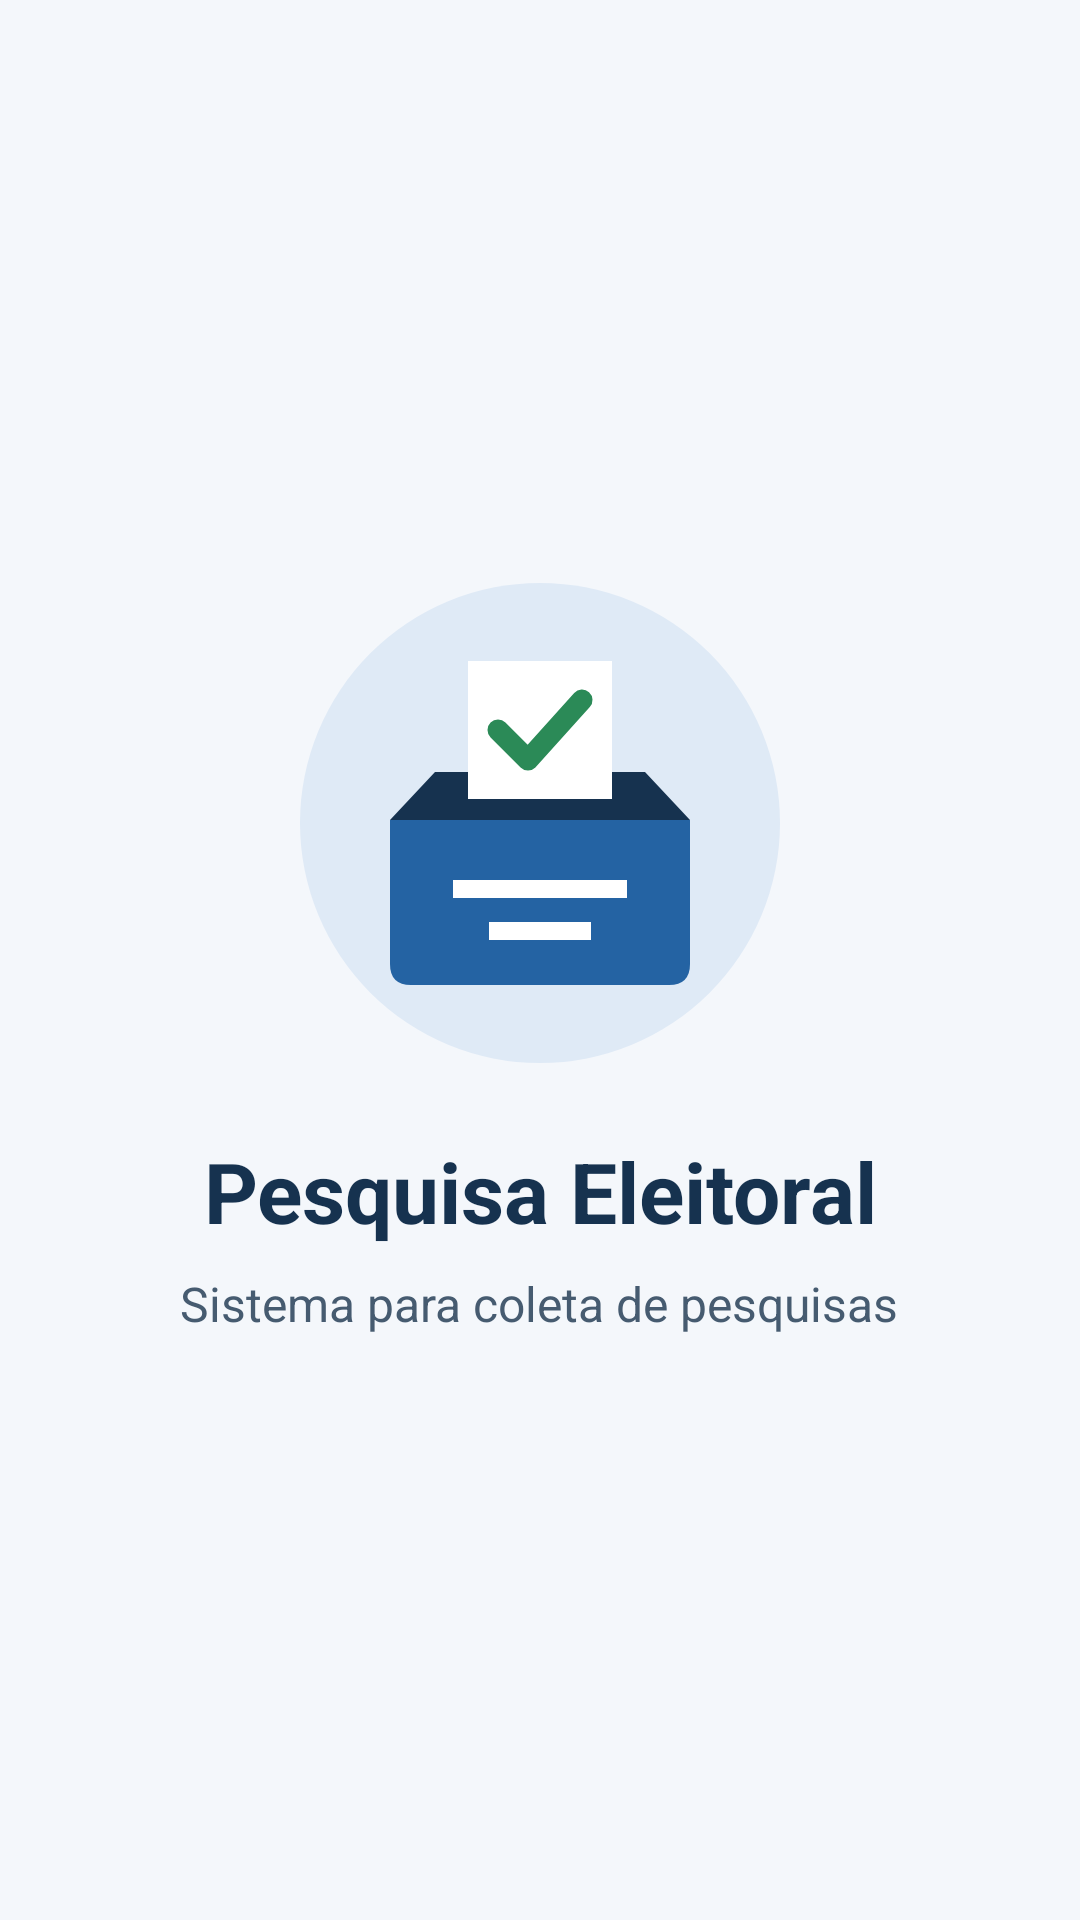

Icon bounding boxes for this 1080 x 1920 phone screenshot, format (x1, y1, x2, y2):
Urna com uma cédula marcada: (390, 689, 690, 985)
